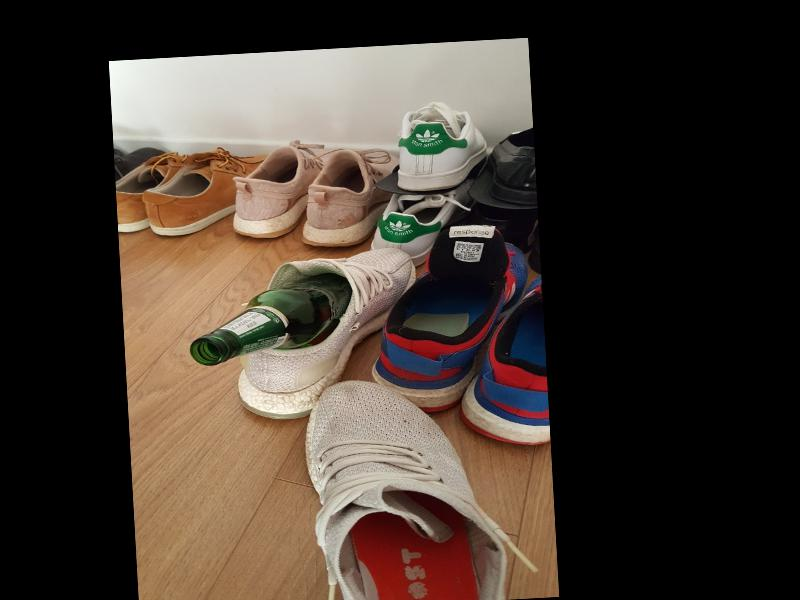Beer: (186, 268, 356, 366)
